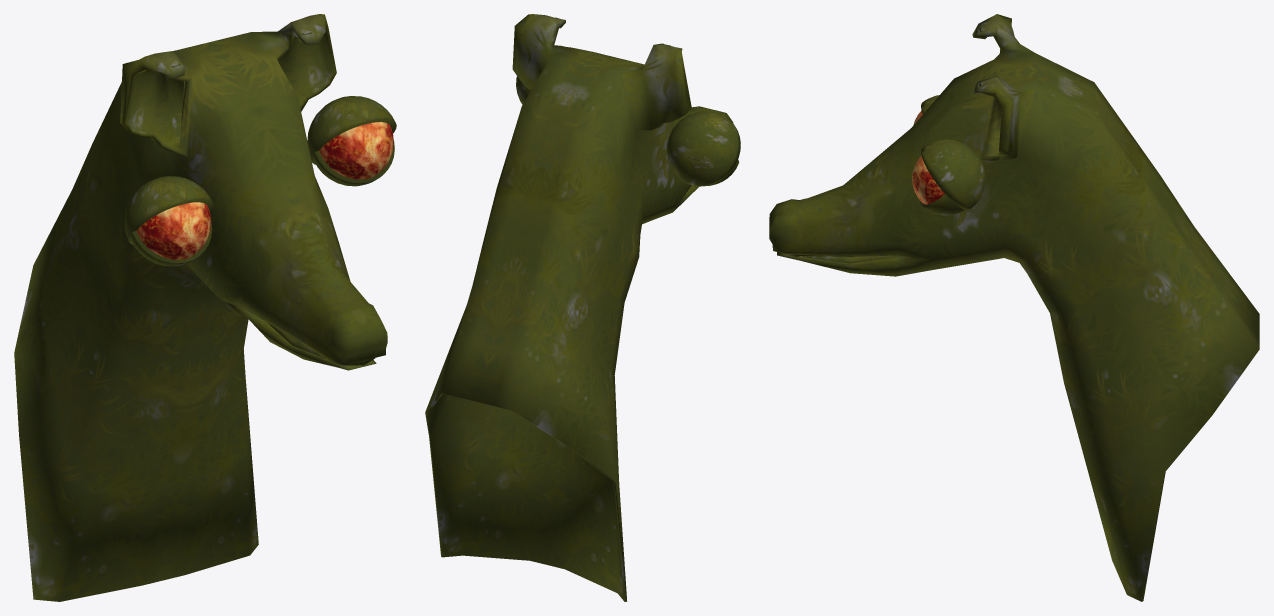
The model's file is Dog Head.fbx.
The picture shows the model from 3 angles, left to right: view 1: azimuth 30°, elevation 25°; view 2: azimuth 150°, elevation 25°; view 3: azimuth 270°, elevation 25°; orthographic projection. The views are drawn at different scales.
Visible parts, largest first — view 1: Dog head, Eye.R, Eye.L, EyeLidUpper.R, EyeLidUpper.L, EyeLidLower.L, EyeLidLower.R; view 2: Dog head, EyeLidUpper.R; view 3: Dog head, EyeLidUpper.L, Eye.L.
Boxes of the visible parts, x1,y1,x2,y2 form: Dog head: [14, 14, 387, 601]; Eye.R: [136, 202, 211, 259]; Eye.L: [319, 122, 393, 179]; EyeLidUpper.R: [124, 176, 213, 244]; EyeLidUpper.L: [307, 96, 396, 164]; EyeLidLower.L: [313, 140, 394, 186]; EyeLidLower.R: [130, 220, 212, 266]; Dog head: [425, 14, 733, 601]; EyeLidUpper.R: [667, 111, 740, 186]; Dog head: [769, 14, 1259, 601]; EyeLidUpper.L: [921, 139, 985, 210]; Eye.L: [912, 156, 944, 204].
Size of the model in its own units: 0.0943 by 0.2054 by 0.1806.
